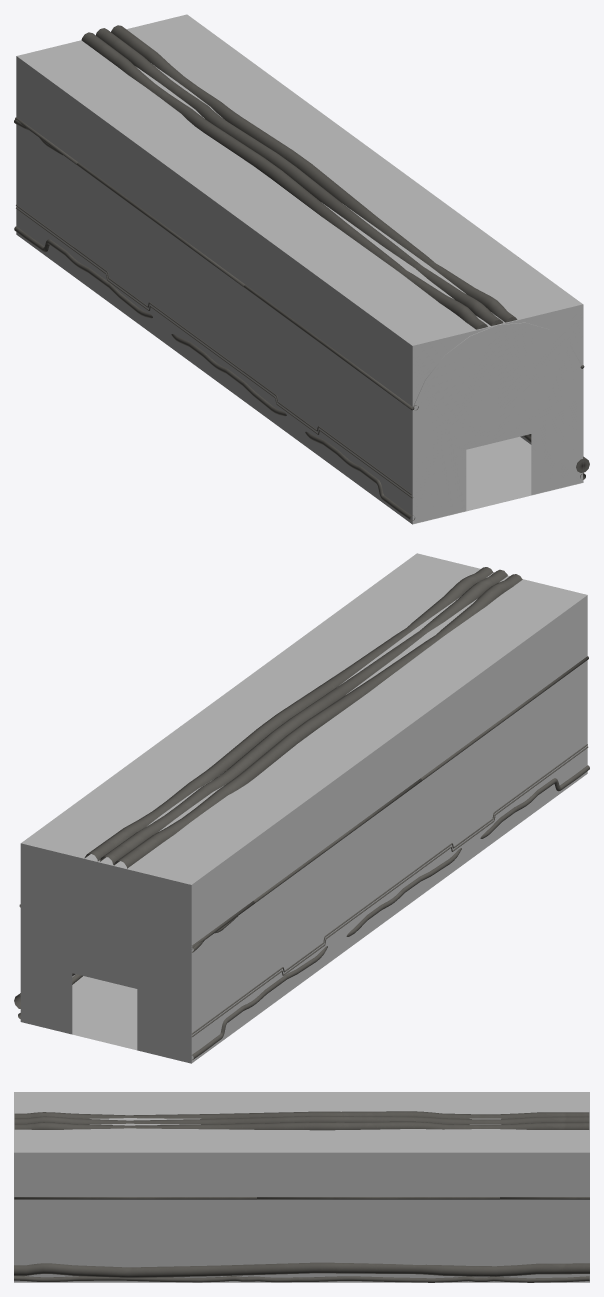
File: BargeCorrNoLamp.fbx
3 renders of one model, top to bottom at view 1: azimuth 30°, elevation 25°; view 2: azimuth 150°, elevation 25°; view 3: azimuth 270°, elevation 25°, orthographic. The views are drawn at different scales.
Visible parts, largest first — view 1: BargeCorr_Wall.001, BargeCorr_Ceiling, BargeCorr_Wall1, Pipe_Big_R3, Pipe_Big_R1, Pipe_Big_R2, BargeCorr_Floor, Pipe_Big_L_Up, Pipe_Horizontal_Small_L1, Pipe_L1; view 2: BargeCorr_Wall.001, BargeCorr_Ceiling, BargeCorr_Wall, Pipe_Big_R3, Pipe_Big_R1, Pipe_Big_R2, BargeCorr_Floor, Pipe_Big_L_Up, Pipe_Horizontal_Small_L1, Pipe_L1; view 3: BargeCorr_Wall.001, BargeCorr_Ceiling, Pipe_Big_R, Pipe_Big_R2, Pipe_Big_R1, Pipe_Big_L1, Pipe_Big_R3, Pipe_L.
Part boxes in pixels (left/top/right/bottom): BargeCorr_Wall.001: left=16, top=56, right=583, bottom=524; BargeCorr_Ceiling: left=17, top=14, right=582, bottom=345; BargeCorr_Wall1: left=412, top=304, right=582, bottom=523; Pipe_Big_R3: left=81, top=32, right=487, bottom=329; Pipe_Big_R1: left=96, top=28, right=503, bottom=325; Pipe_Big_R2: left=111, top=25, right=517, bottom=322; BargeCorr_Floor: left=413, top=436, right=582, bottom=524; Pipe_Big_L_Up: left=14, top=226, right=414, bottom=520; Pipe_Horizontal_Small_L1: left=16, top=204, right=412, bottom=498; Pipe_L1: left=15, top=117, right=414, bottom=410; BargeCorr_Wall.001: left=72, top=595, right=587, bottom=1063; BargeCorr_Ceiling: left=21, top=553, right=586, bottom=884; BargeCorr_Wall: left=20, top=843, right=191, bottom=1063; Pipe_Big_R3: left=114, top=574, right=522, bottom=868; Pipe_Big_R1: left=100, top=569, right=507, bottom=865; Pipe_Big_R2: left=84, top=567, right=493, bottom=861; BargeCorr_Floor: left=72, top=976, right=137, bottom=1050; Pipe_Big_L_Up: left=192, top=765, right=589, bottom=1059; Pipe_Horizontal_Small_L1: left=192, top=744, right=588, bottom=1036; Pipe_L1: left=192, top=656, right=588, bottom=949; BargeCorr_Wall.001: left=14, top=1152, right=589, bottom=1282; BargeCorr_Ceiling: left=14, top=1092, right=589, bottom=1152; Pipe_Big_R: left=14, top=1262, right=589, bottom=1277; Pipe_Big_R2: left=14, top=1121, right=589, bottom=1130; Pipe_Big_R1: left=14, top=1116, right=589, bottom=1124; Pipe_Big_L1: left=14, top=1276, right=589, bottom=1282; Pipe_Big_R3: left=14, top=1111, right=589, bottom=1118; Pipe_L: left=14, top=1197, right=589, bottom=1199.
Bounding box in the file's own units: 1056 × 1045 × 4019.
